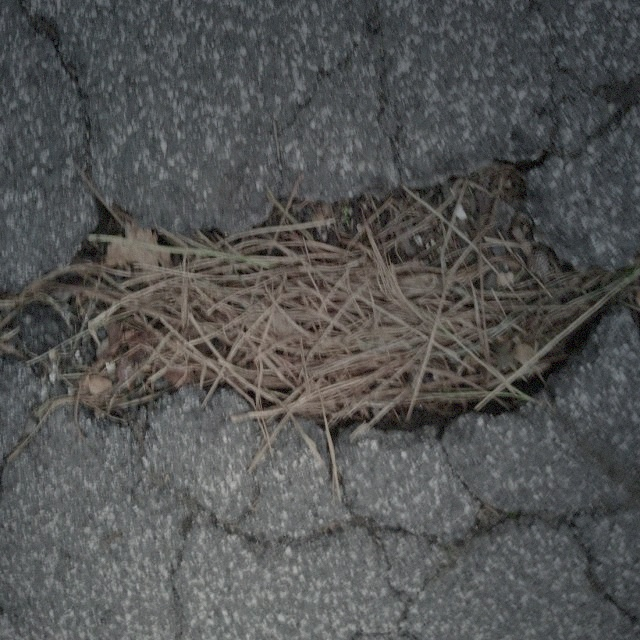pothole: (38, 150, 605, 443)
